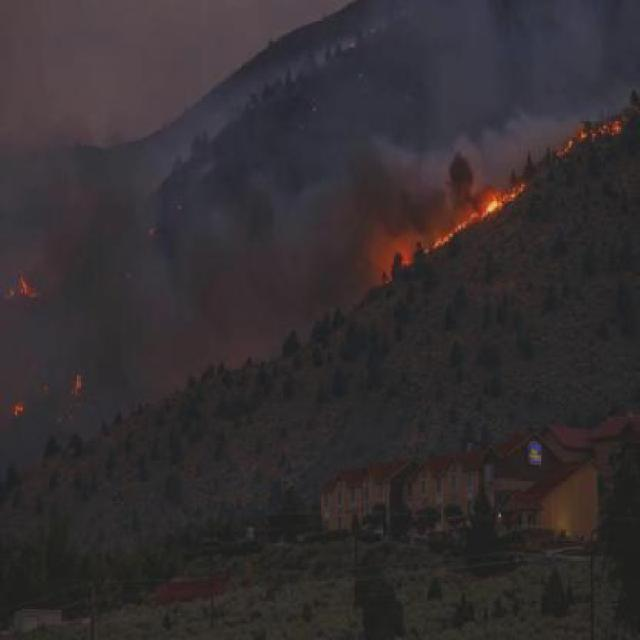Fire: (582, 118, 620, 140), (7, 276, 38, 298), (557, 138, 571, 157), (70, 372, 82, 394), (15, 400, 23, 420)
